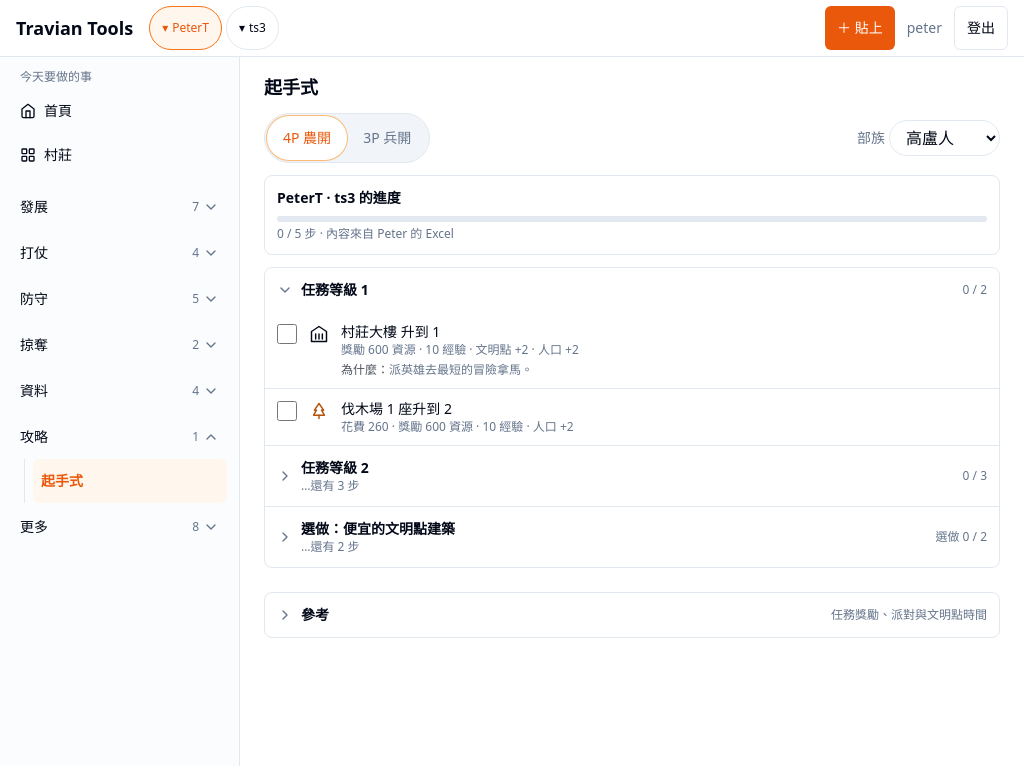
Test: 起手式清單 (P0-10) › expands only the first unfinished section; others show how many steps are left
The image size is (1024, 766).
Expected: the checkbox named "完成：村莊大樓 升到 1" is shown, x1=277 y1=324 x2=297 y2=344
Expected: the checkbox labelled "泥坑" is not shown
Click the button "任務等級 2 …還有 3 步 0 / 3" at [335, 468], box x1=265 y1=446 x2=999 y2=506
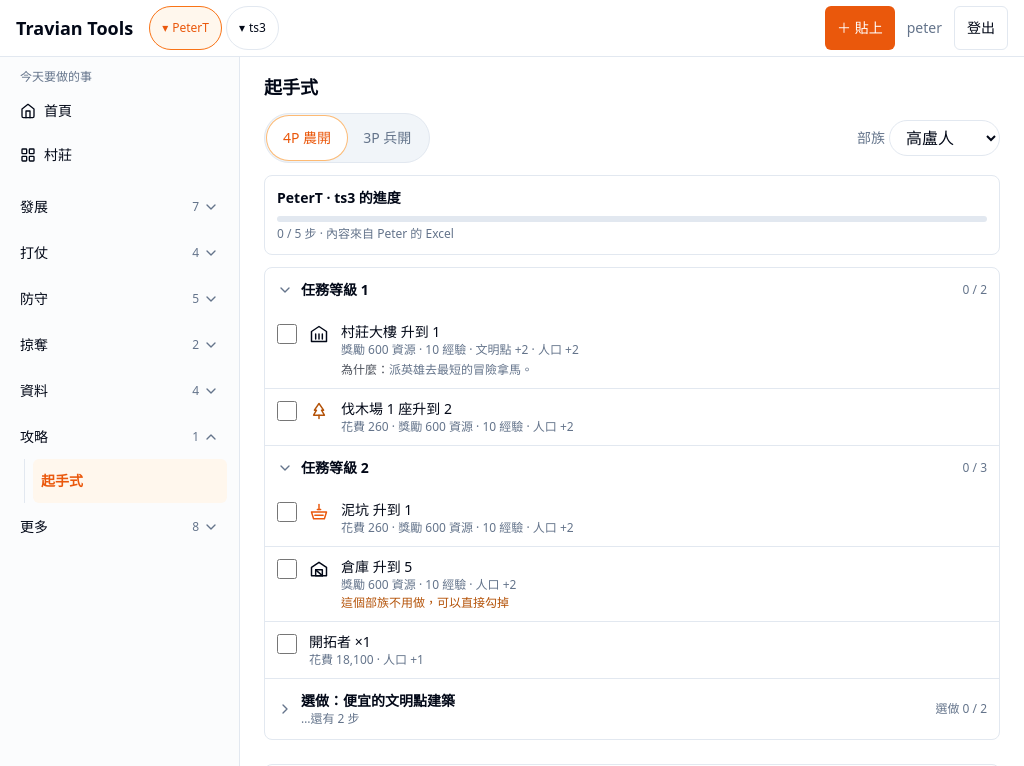
Expected: the checkbox named "完成：泥坑 升到 1" is shown, x1=277 y1=502 x2=297 y2=522
